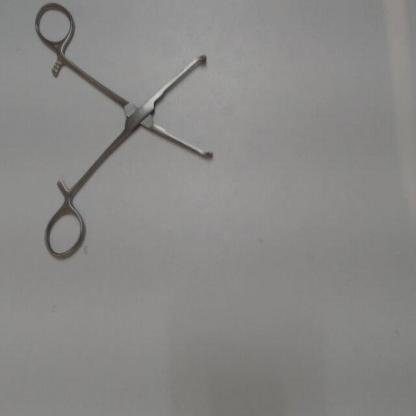Allis Tissue Forceps: (31, 1, 217, 267)
